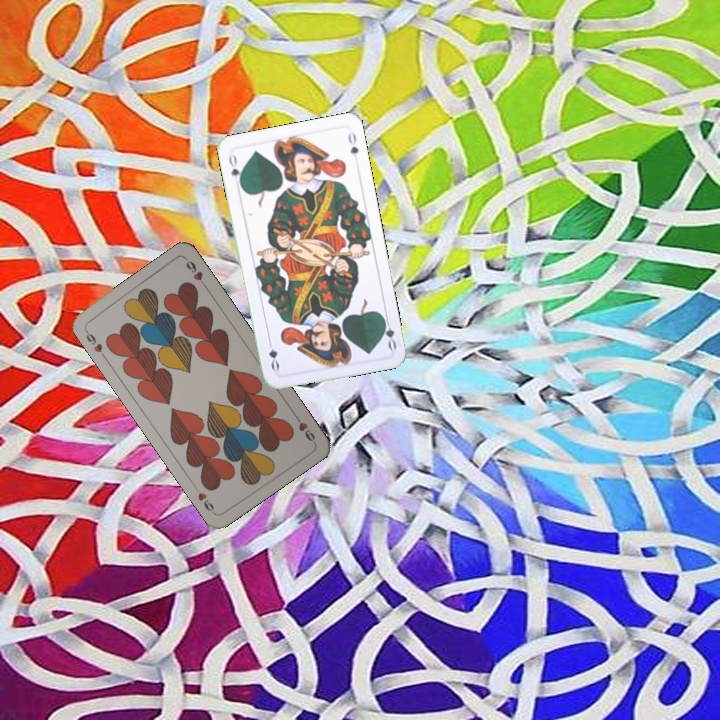GO: (378, 312, 399, 352), (225, 150, 245, 189)
H9: (290, 410, 318, 445), (81, 326, 109, 361)
